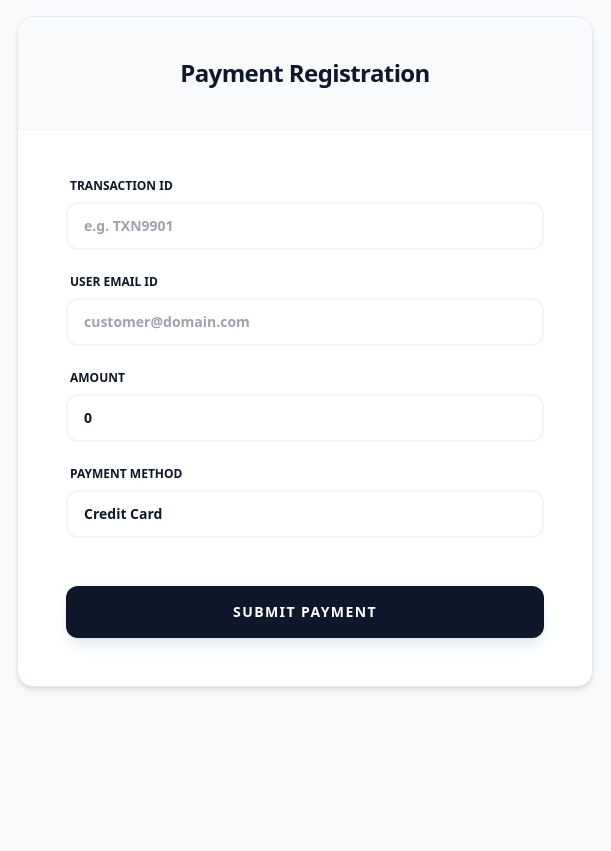
Scenario: TransactionRegistration.vue › shows error message when email is invalid
In the field with id "useEmail": (305,322) [66,298,544,346], type "invalid-email"
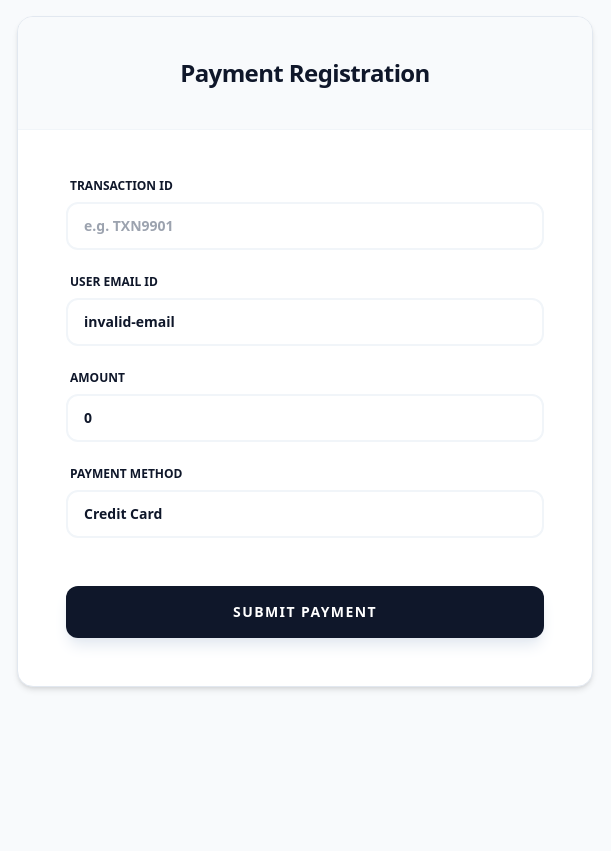
Submit the form, box [66,178,544,638]
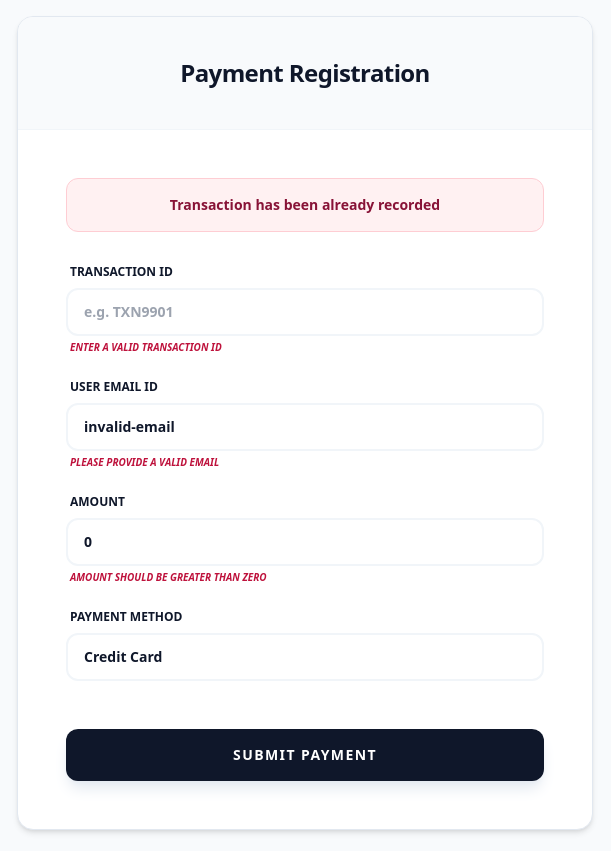
Now the text "Please provide a valid email" is shown, box [70,455,219,469]
